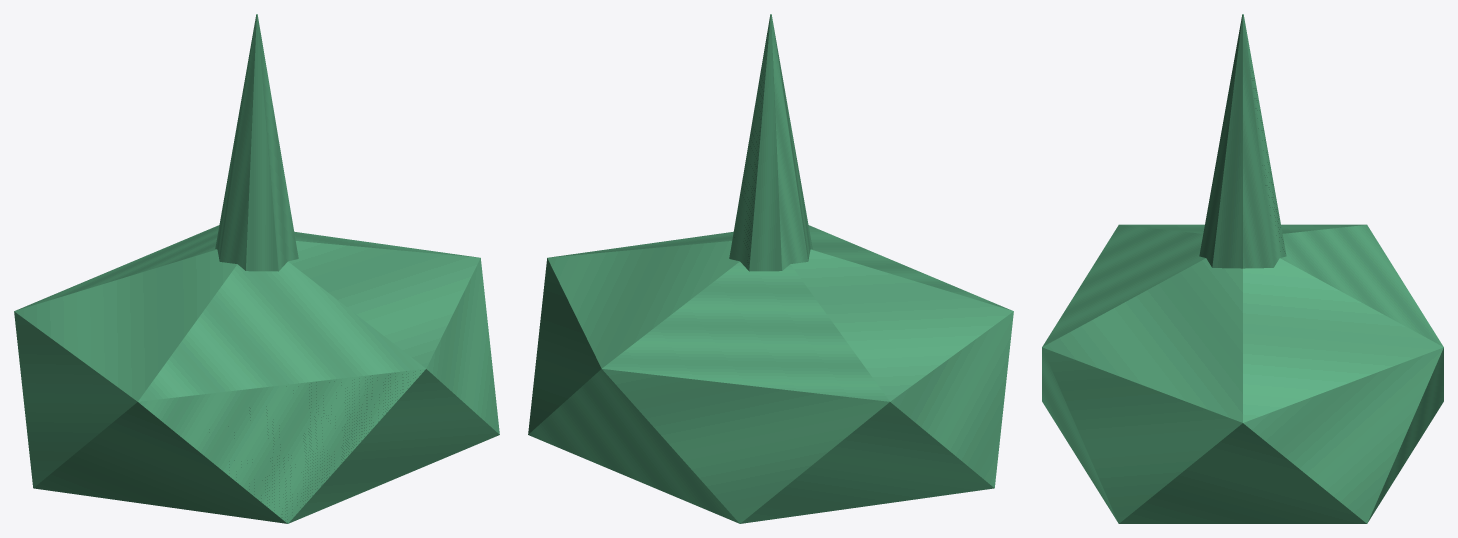
Rendered from critical.glb.
The picture shows the model from 3 angles, left to right: view 1: azimuth 30°, elevation 25°; view 2: azimuth 150°, elevation 25°; view 3: azimuth 270°, elevation 25°; orthographic projection.
Parts seen in each view (by area): view 1: gear_critical; view 2: gear_critical; view 3: gear_critical.
Part boxes in pixels (left/top/right/bottom): gear_critical: left=14, top=14, right=499, bottom=523; gear_critical: left=528, top=14, right=1013, bottom=523; gear_critical: left=1042, top=14, right=1443, bottom=523.
Bounding box in the file's own units: 0.483 × 0.51 × 0.3743.
Materials: 1 (1 with a texture image).
